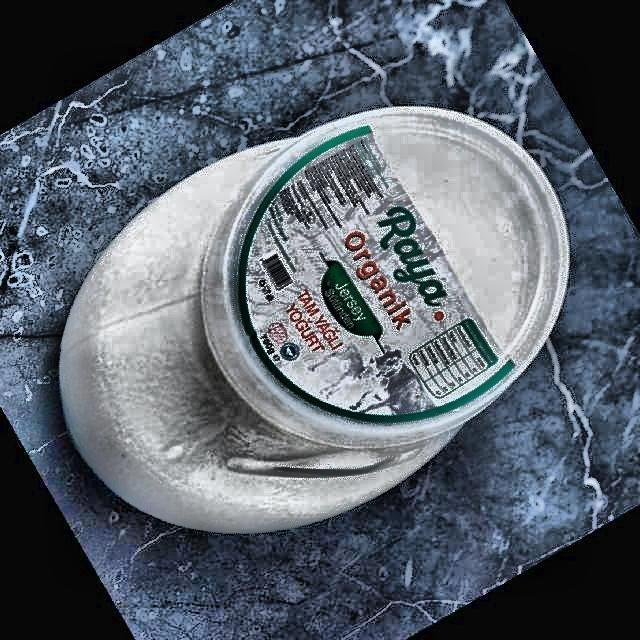plastic: (60, 106, 569, 532)
